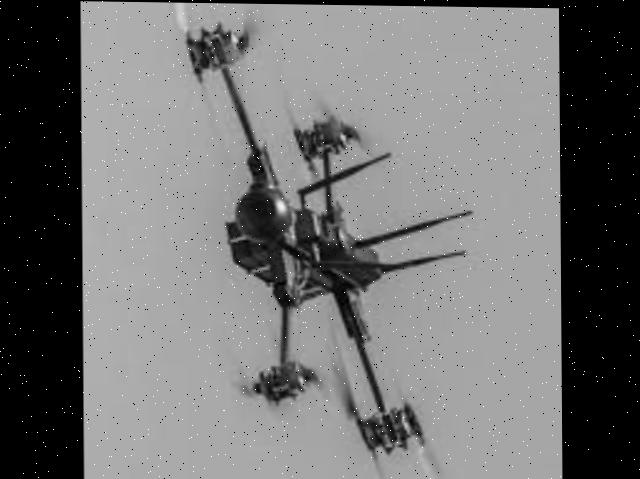drone: (147, 2, 471, 479)
